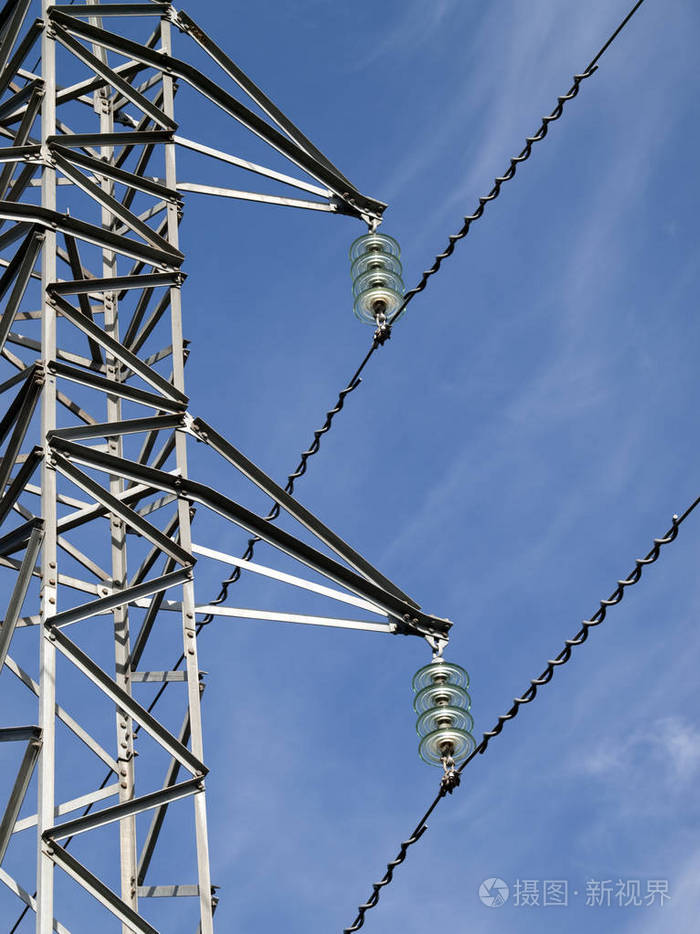insulator: (413, 661, 473, 765), (348, 230, 410, 324)
